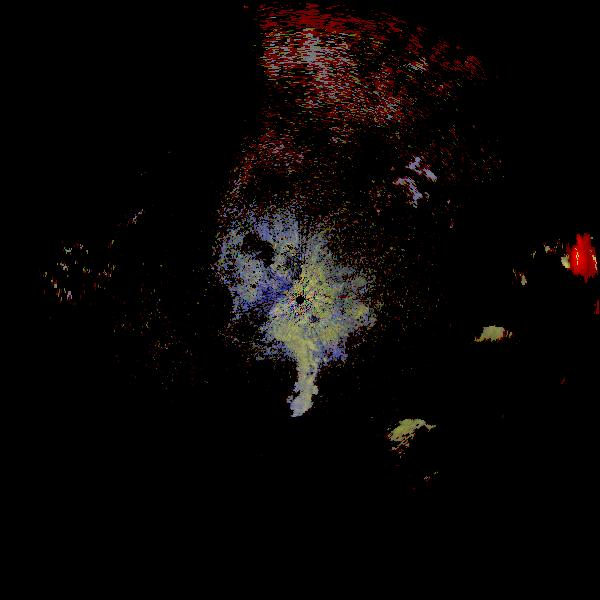roost: (362, 387, 497, 522)
